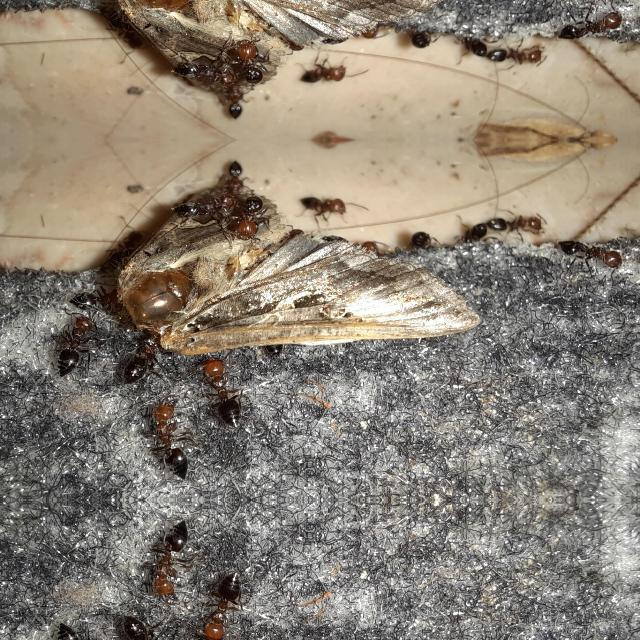Crematogaster: (193, 345, 254, 433), (144, 394, 198, 486), (144, 512, 198, 604), (193, 565, 254, 640), (44, 308, 100, 386), (119, 323, 170, 385), (552, 234, 630, 274), (552, 4, 630, 44), (61, 278, 128, 316), (178, 184, 234, 222), (178, 56, 234, 94), (296, 186, 349, 222), (296, 56, 349, 92), (490, 209, 552, 237), (490, 41, 552, 69), (44, 612, 99, 640), (118, 613, 169, 640), (238, 193, 264, 239), (238, 39, 264, 85), (220, 157, 246, 195), (220, 83, 246, 121)
